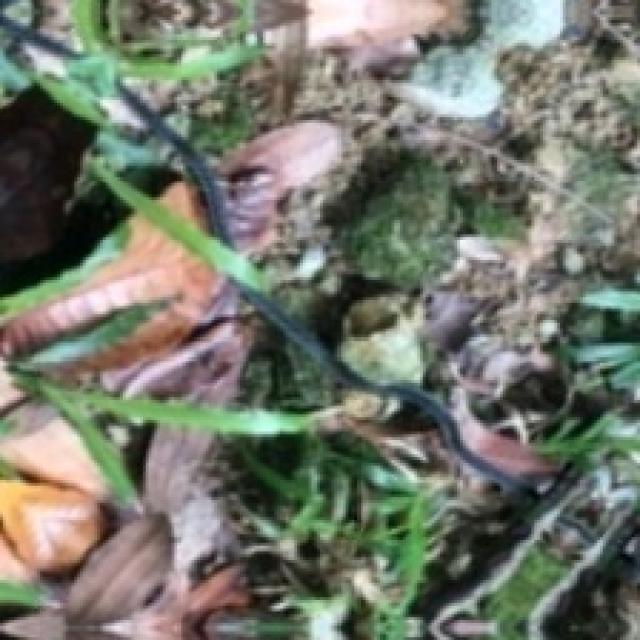king cobra: (0, 0, 560, 517)
